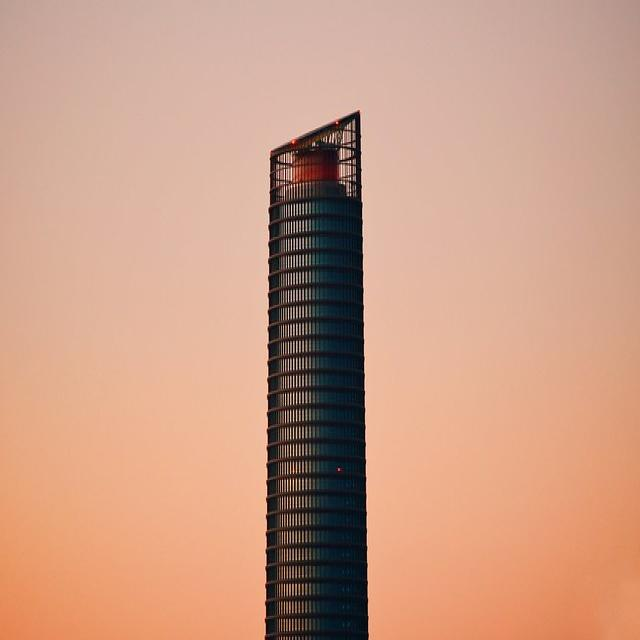building: (256, 106, 374, 636)
